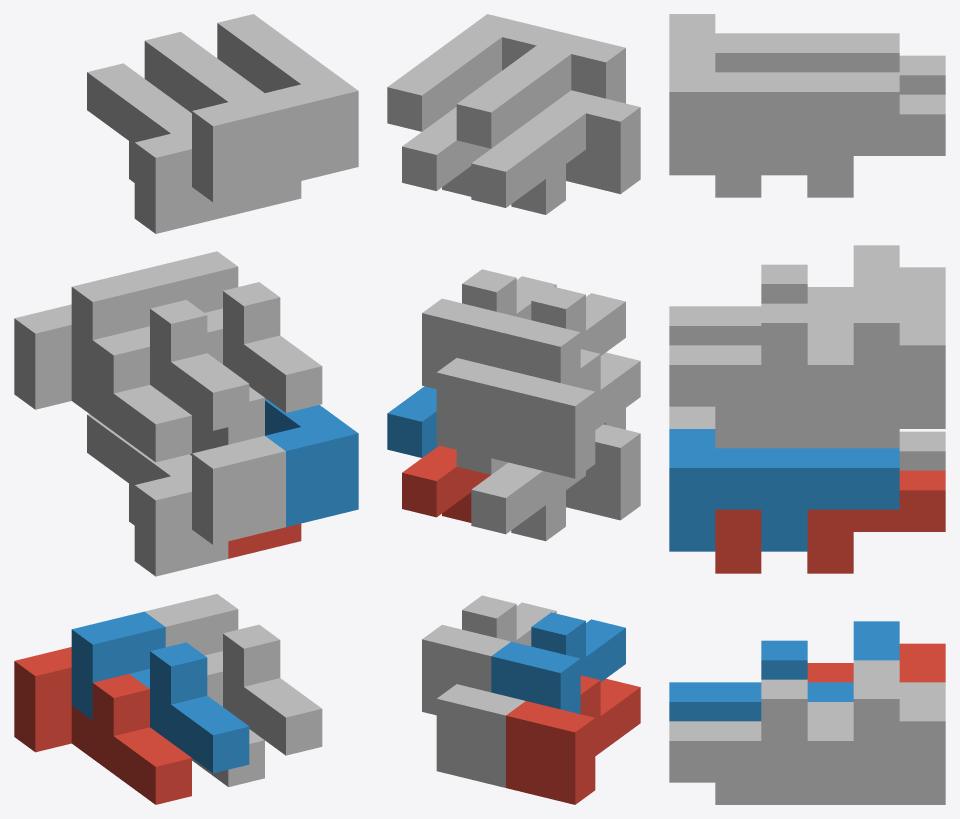
Rendered from tiling.obj.
The picture shows the model from 3 angles, left to right: view 1: azimuth 30°, elevation 25°; view 2: azimuth 150°, elevation 25°; view 3: azimuth 270°, elevation 25°; orthographic projection. The views are drawn at different scales.
Visible parts, largest first — view 1: copy_1_domain_3, copy_1_domain_1, copy_1_domain_2, copy_1_domain_4, copy_2_domain_4, copy_2_domain_8, copy_1_domain_6, copy_1_domain_8, copy_2_domain_3, copy_2_domain_1, copy_2_domain_2, copy_2_domain_6 (+4 smaller); view 2: copy_2_domain_3, copy_1_domain_3, copy_1_domain_1, copy_2_domain_1, copy_2_domain_4, copy_1_domain_2, copy_1_domain_4, copy_2_domain_8, copy_1_domain_8, copy_1_domain_6, copy_1_domain_5, copy_1_domain_7 (+4 smaller); view 3: copy_1_domain_6, copy_1_domain_8, copy_2_domain_6, copy_2_domain_8, copy_1_domain_5, copy_1_domain_7, copy_2_domain_5, copy_2_domain_7, copy_2_domain_4, copy_1_domain_2, copy_1_domain_4, copy_2_domain_2 (+4 smaller).
Part boxes in pixels (x1=…): copy_1_domain_3: x1=14, y1=304, x2=191, y2=462; copy_1_domain_1: x1=14, y1=647, x2=191, y2=804; copy_1_domain_2: x1=71, y1=611, x2=249, y2=773; copy_1_domain_4: x1=71, y1=269, x2=249, y2=430; copy_2_domain_4: x1=144, y1=32, x2=285, y2=202; copy_2_domain_8: x1=217, y1=14, x2=358, y2=184; copy_1_domain_6: x1=145, y1=594, x2=322, y2=755; copy_1_domain_8: x1=145, y1=251, x2=322, y2=412; copy_2_domain_3: x1=87, y1=63, x2=228, y2=233; copy_2_domain_1: x1=87, y1=414, x2=228, y2=576; copy_2_domain_2: x1=190, y1=418, x2=285, y2=544; copy_2_domain_6: x1=265, y1=398, x2=358, y2=526; copy_2_domain_3: x1=471, y1=90, x2=640, y2=214; copy_1_domain_3: x1=506, y1=349, x2=640, y2=478; copy_1_domain_1: x1=506, y1=675, x2=640, y2=804; copy_2_domain_1: x1=471, y1=424, x2=640, y2=541; copy_2_domain_4: x1=456, y1=31, x2=625, y2=148; copy_1_domain_2: x1=491, y1=612, x2=625, y2=714; copy_1_domain_4: x1=491, y1=286, x2=625, y2=387; copy_2_domain_8: x1=387, y1=14, x2=555, y2=131; copy_1_domain_8: x1=422, y1=269, x2=556, y2=388; copy_1_domain_6: x1=422, y1=595, x2=556, y2=715; copy_1_domain_5: x1=436, y1=684, x2=525, y2=787; copy_1_domain_7: x1=436, y1=358, x2=525, y2=461; copy_1_domain_6: x1=669, y1=660, x2=899, y2=782; copy_1_domain_8: x1=669, y1=284, x2=899, y2=406; copy_2_domain_6: x1=669, y1=429, x2=899, y2=551; copy_2_domain_8: x1=669, y1=53, x2=899, y2=175; copy_1_domain_5: x1=715, y1=682, x2=945, y2=804; copy_1_domain_7: x1=715, y1=306, x2=945, y2=428; copy_2_domain_5: x1=715, y1=470, x2=945, y2=573; copy_2_domain_7: x1=715, y1=94, x2=945, y2=197; copy_2_domain_4: x1=669, y1=14, x2=899, y2=72; copy_1_domain_2: x1=669, y1=621, x2=899, y2=721; copy_1_domain_4: x1=669, y1=245, x2=899, y2=345; copy_2_domain_2: x1=669, y1=406, x2=899, y2=448.
Bounding box in the file's own units: 6 × 18 × 6.
